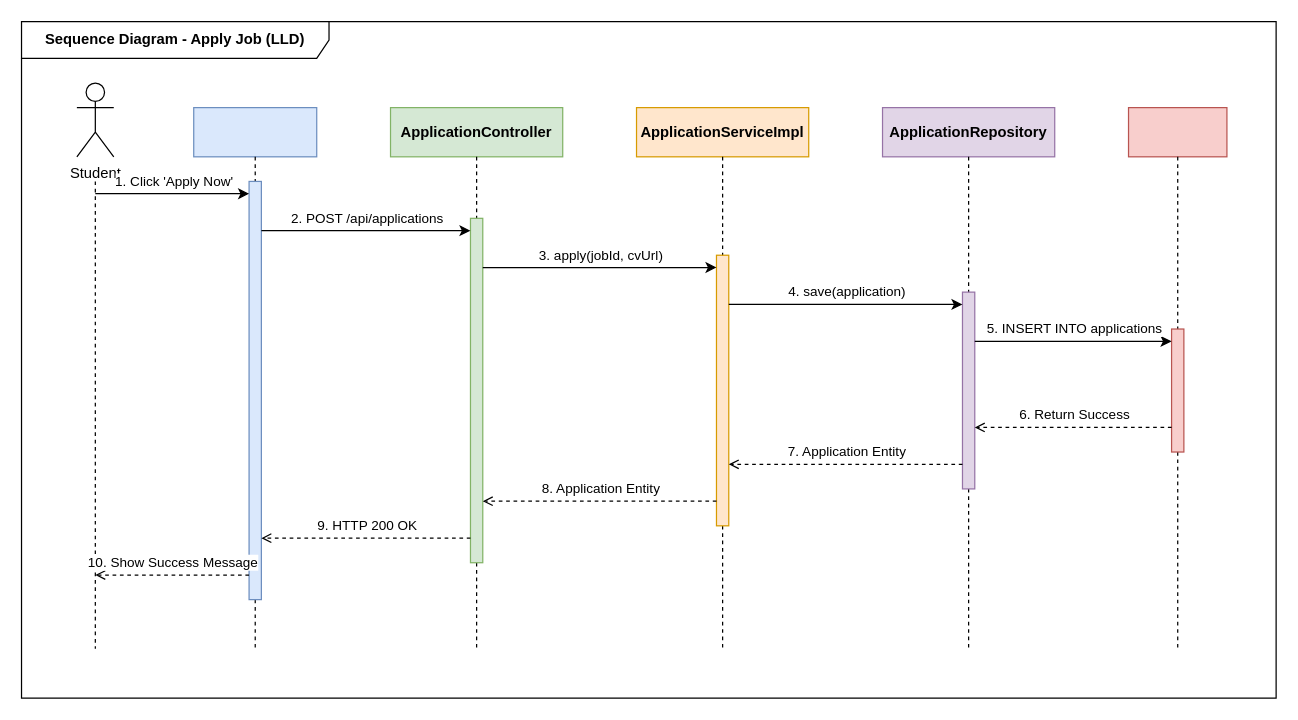
This 1298x720 diagram has some shape labels left out. The shapes that lost their labels are listed below. From the top down, each one's centre as x and y in pixels, then its label:
At point 254,131: "Frontend UI".
At point 1177,131: "Database".
